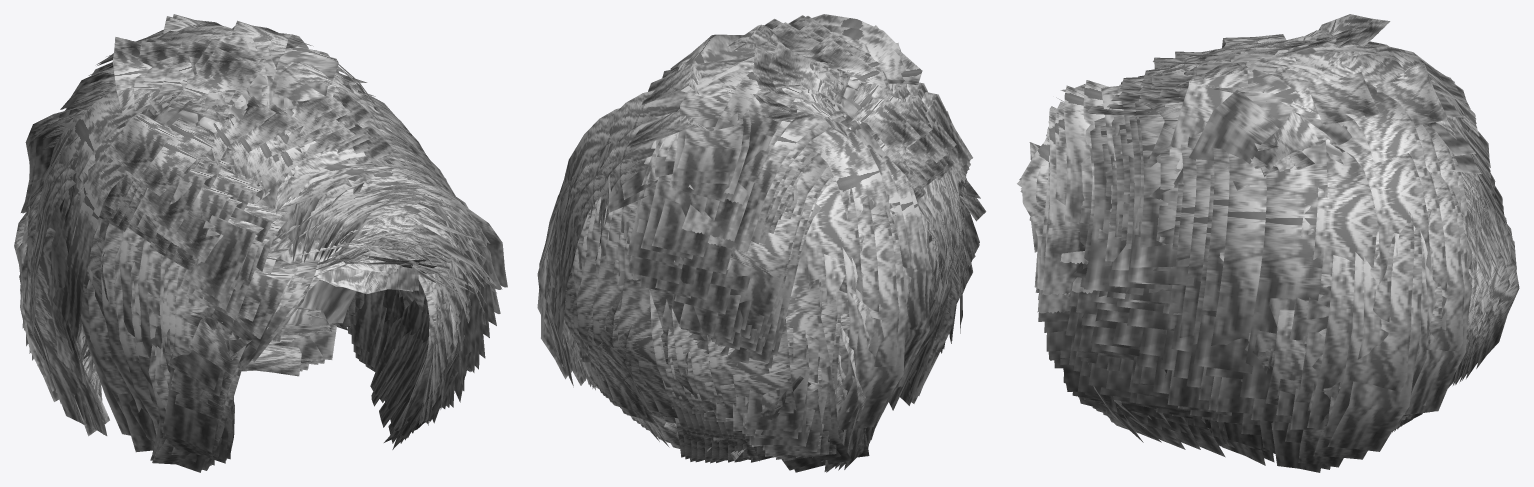
The model's file is hair_bob02.glb.
The picture shows the model from 3 angles, left to right: view 1: azimuth 30°, elevation 25°; view 2: azimuth 150°, elevation 25°; view 3: azimuth 270°, elevation 25°; orthographic projection. The views are drawn at different scales.
Visible parts, largest first — view 1: hair_bob02; view 2: hair_bob02; view 3: hair_bob02.
Boxes of the visible parts, x1,y1,x2,y2 form: hair_bob02: (14,14,507,472); hair_bob02: (537,14,986,472); hair_bob02: (1017,14,1519,472).
Size of the model in its own units: 0.1928 by 0.1924 by 0.2385.
Materials: 1 (1 with a texture image).
